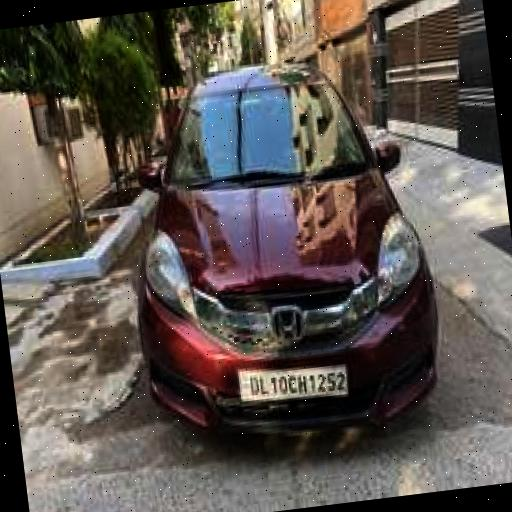license_plate`: (234, 356, 346, 404)
